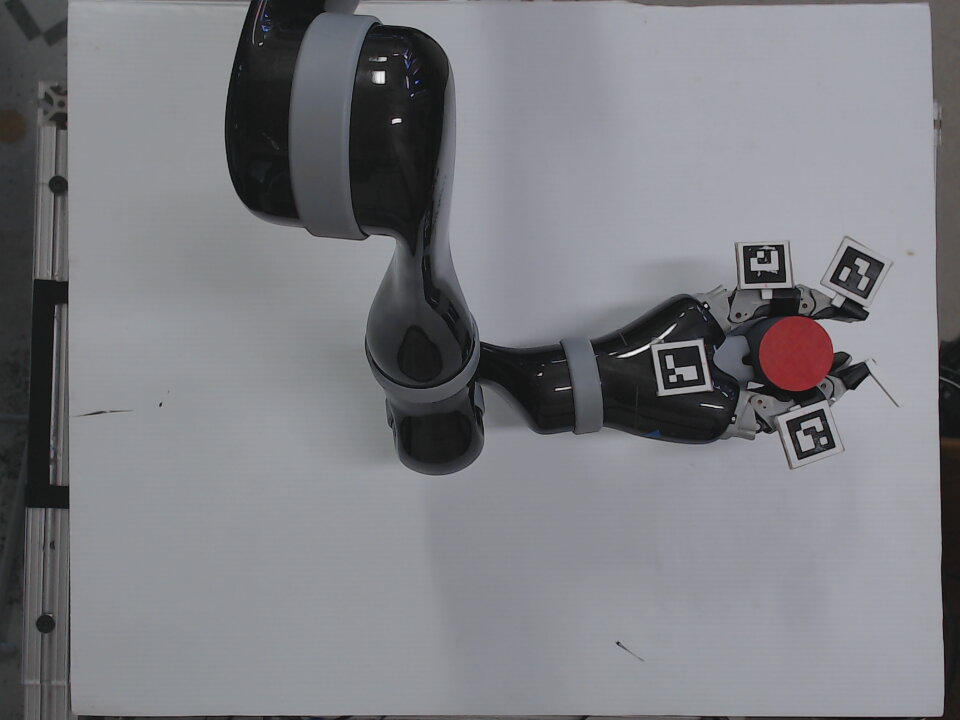cylinder: (744, 313, 838, 396)
